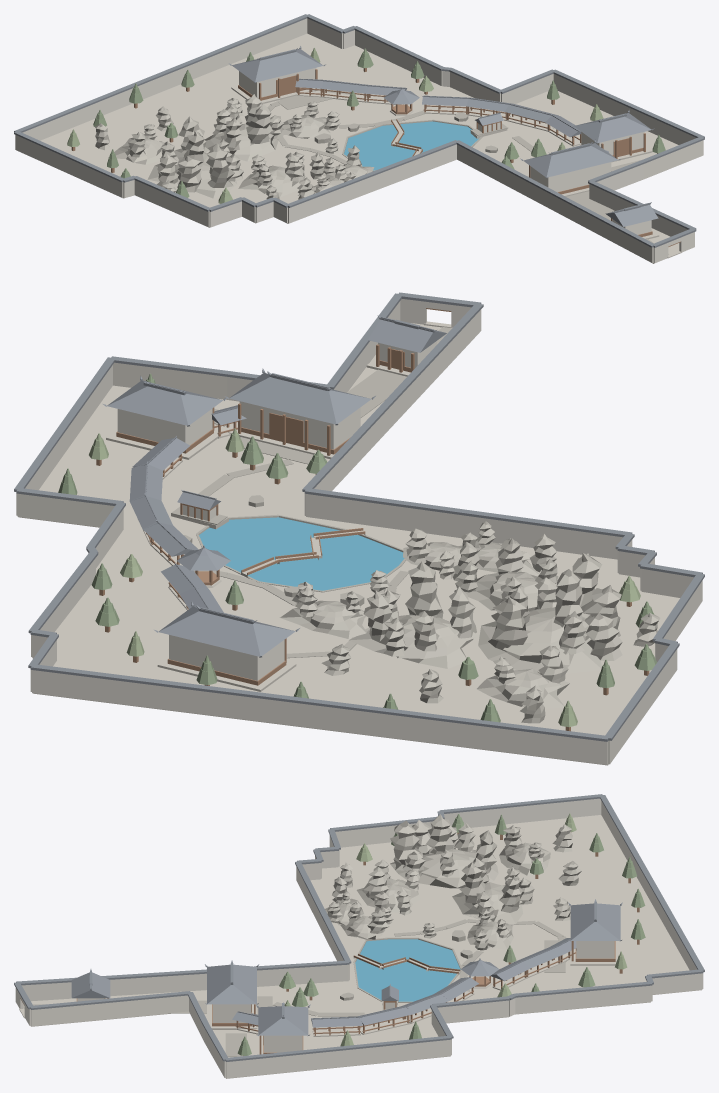
The model's file is shizilin.glb.
3 views of the same model, one above another, from view 1: azimuth 30°, elevation 25°; view 2: azimuth 150°, elevation 25°; view 3: azimuth 270°, elevation 25° (orthographic). The views are drawn at different scales.
Visible parts, largest first — view 1: szl_wall_white, szl_stone, szl_tile_dark, szl_rock_taihu, szl_water, szl_wood, szl_leaf, szl_leaf_light; view 2: szl_stone, szl_wall_white, szl_rock_taihu, szl_tile_dark, szl_water, szl_wood, szl_leaf, szl_leaf_light; view 3: szl_stone, szl_wall_white, szl_rock_taihu, szl_tile_dark, szl_water, szl_wood, szl_leaf, szl_leaf_light.
Part boxes in pixels (<box>): szl_wall_white: <box>15,18,703,263</box>; szl_stone: <box>40,33,682,263</box>; szl_tile_dark: <box>14,14,704,247</box>; szl_rock_taihu: <box>95,89,668,254</box>; szl_water: <box>344,121,478,170</box>; szl_wood: <box>71,68,680,246</box>; szl_leaf: <box>93,48,665,197</box>; szl_leaf_light: <box>67,47,603,203</box>; szl_stone: <box>18,321,679,765</box>; szl_wall_white: <box>16,299,702,764</box>; szl_rock_taihu: <box>171,327,660,723</box>; szl_tile_dark: <box>14,292,704,741</box>; szl_water: <box>199,517,404,590</box>; szl_wood: <box>96,308,649,731</box>; szl_leaf: <box>58,373,657,722</box>; szl_leaf_light: <box>89,428,640,727</box>; szl_stone: <box>19,815,701,1078</box>; szl_wall_white: <box>15,798,703,1078</box>; szl_rock_taihu: <box>23,814,581,1056</box>; szl_tile_dark: <box>14,794,704,1061</box>; szl_water: <box>355,939,460,1001</box>; szl_wood: <box>20,832,639,1055</box>; szl_leaf: <box>237,814,645,1055</box>; szl_leaf_light: <box>284,813,627,1046</box>.
Size of the model in its own units: 147 by 13.94 by 162.
